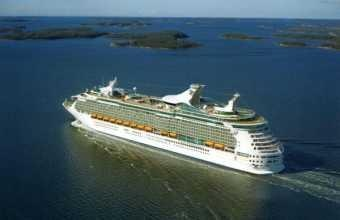youlun: (60, 70, 287, 173)
